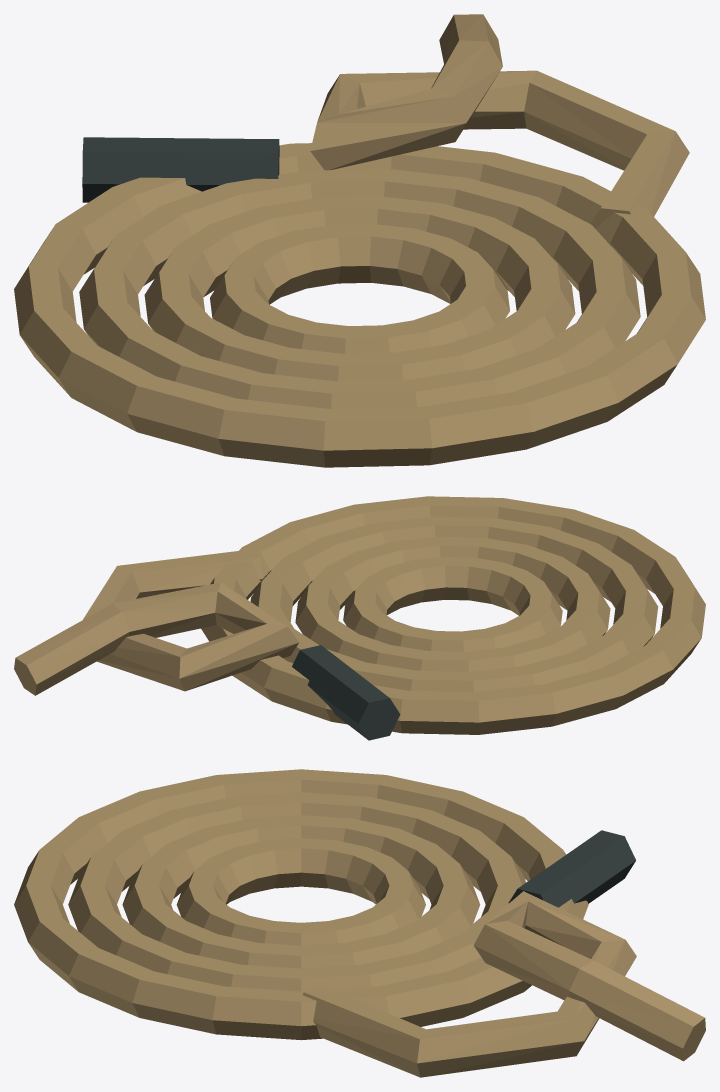
Rendered from SWP_RopeKnot.fbx.
3 views of the same model, one above another, from view 1: azimuth 30°, elevation 25°; view 2: azimuth 150°, elevation 25°; view 3: azimuth 270°, elevation 25° (orthographic). The views are drawn at different scales.
Visible parts, largest first — view 1: SWP_RopeKnot; view 2: SWP_RopeKnot; view 3: SWP_RopeKnot.
Part boxes in pixels (<box>): SWP_RopeKnot: <box>14,14,705,467</box>; SWP_RopeKnot: <box>14,496,705,740</box>; SWP_RopeKnot: <box>14,769,705,1077</box>.
Bounding box in the file's own units: 0.2467 × 0.0336 × 0.2553.
